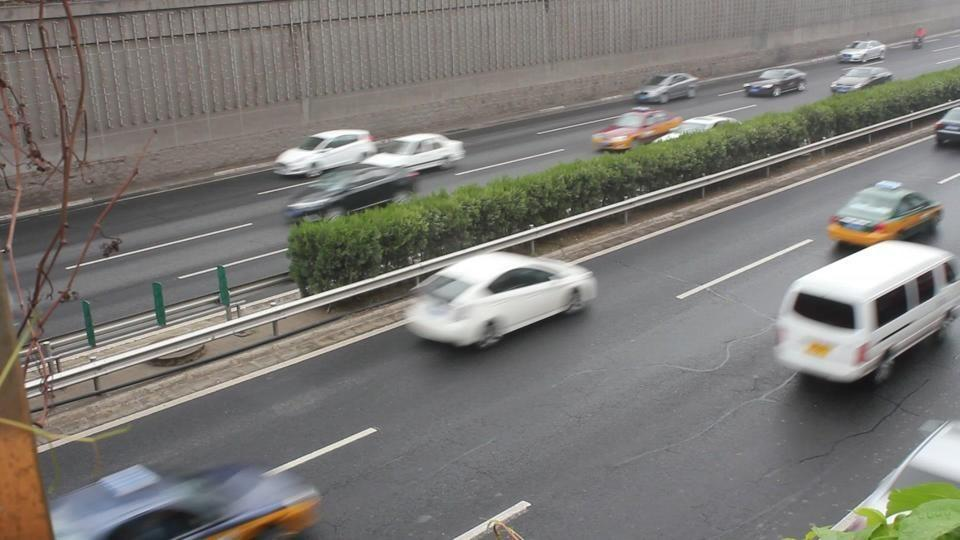car: (47, 460, 325, 538), (403, 250, 599, 351), (280, 163, 420, 225), (826, 179, 944, 251), (273, 129, 377, 180), (358, 133, 468, 176), (591, 107, 686, 153), (634, 72, 699, 104), (828, 66, 895, 96), (744, 67, 808, 98), (837, 38, 886, 65), (934, 107, 960, 149)
